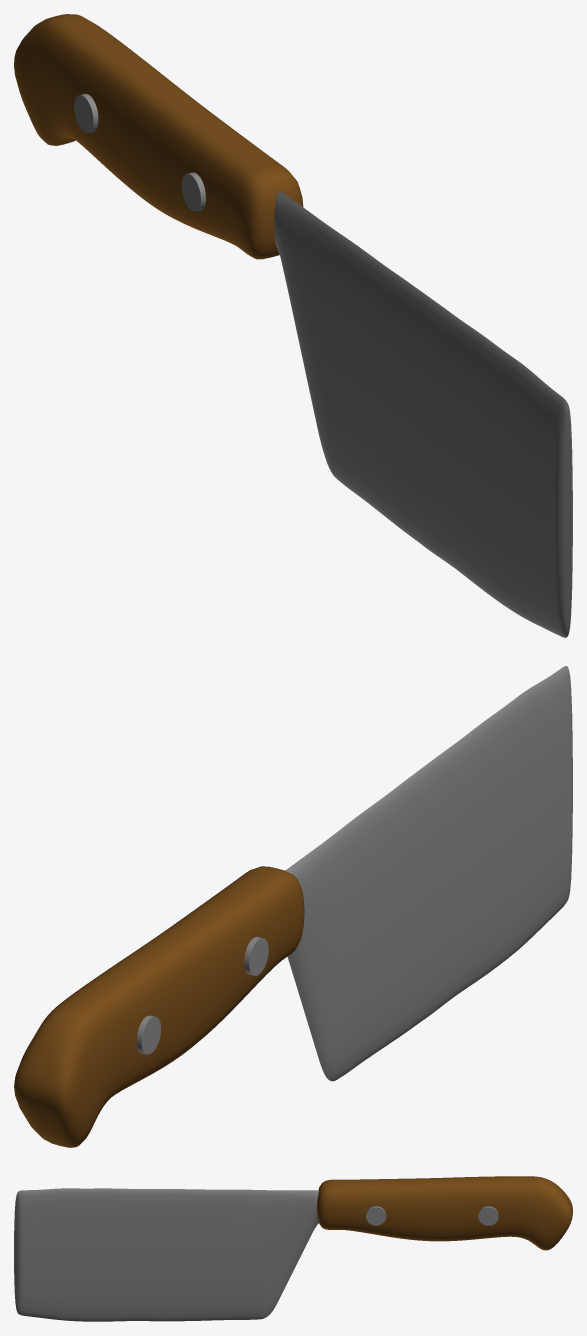
File: Knife_Cleaver.glb
The picture shows the model from 3 angles, top to bottom: view 1: azimuth 30°, elevation 25°; view 2: azimuth 150°, elevation 25°; view 3: azimuth 270°, elevation 25°; orthographic projection. The views are drawn at different scales.
Visible parts, largest first — view 1: Plane.001, Plane, Circle, Circle.001; view 2: Plane.001, Plane, Circle, Circle.001; view 3: Plane.001, Plane, Circle, Circle.001.
Boxes of the visible parts, box(x1,y1,x2,y2) form: Plane.001: box(274, 190, 572, 637); Plane: box(14, 14, 303, 259); Circle: box(181, 172, 205, 211); Circle.001: box(74, 93, 98, 132); Plane.001: box(285, 666, 572, 1081); Plane: box(14, 866, 304, 1147); Circle: box(244, 936, 268, 975); Circle.001: box(136, 1015, 161, 1054); Plane.001: box(14, 1188, 319, 1321); Plane: box(317, 1176, 572, 1250); Circle: box(366, 1206, 386, 1225); Circle.001: box(478, 1206, 498, 1225).
Bounding box in the file's own units: 0.2185 × 0.8495 × 3.03.
2 materials, 1 textured.
